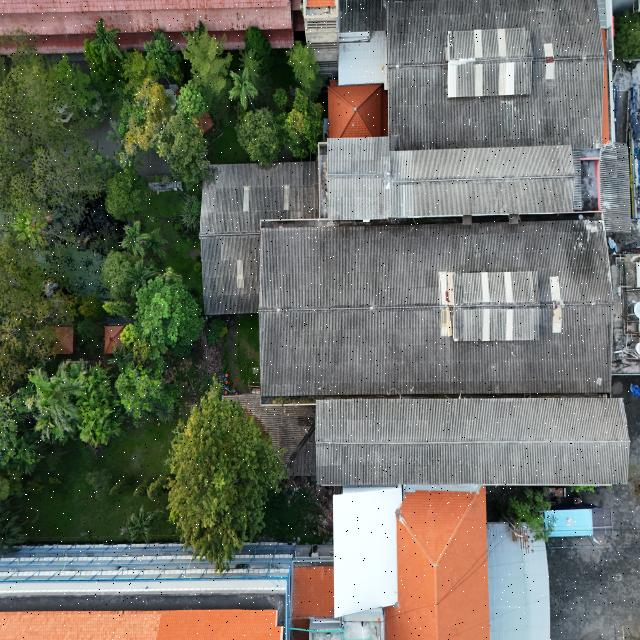Tree: (166, 382, 278, 572), (133, 270, 203, 356), (160, 110, 208, 184), (82, 18, 130, 92), (235, 102, 282, 170), (228, 67, 260, 109), (618, 0, 640, 61)
